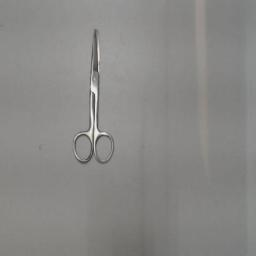Dressing Scissors: (68, 17, 120, 171)
